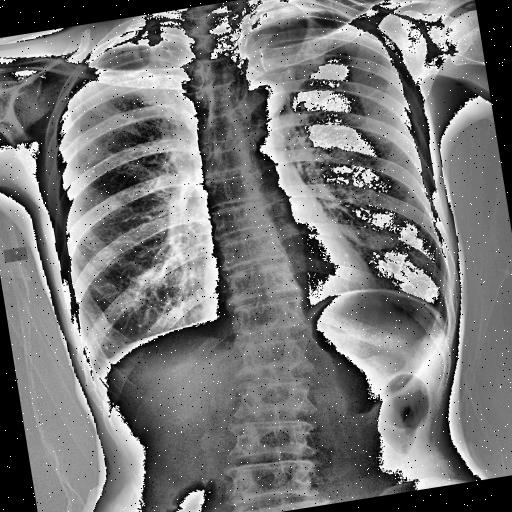10- Pleural effusion: (78, 340, 106, 394)
11- Pleural thickening: (96, 20, 176, 58), (93, 20, 179, 55), (244, 0, 335, 31), (255, 0, 333, 33), (104, 23, 168, 52), (78, 340, 106, 394), (253, 10, 310, 34), (85, 349, 119, 388), (85, 354, 109, 386)
13- Pulmonary fibrosis: (87, 326, 117, 371), (144, 39, 179, 72)
